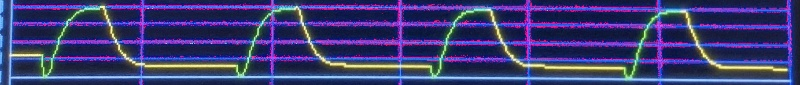leakage: (6, 1, 774, 85)
